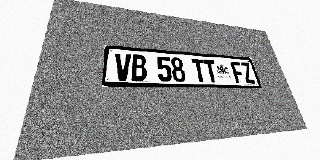5: (157, 56, 173, 82)
8: (170, 57, 186, 82)
B: (131, 54, 147, 81)
F: (230, 61, 246, 83)
T: (203, 59, 219, 83), (191, 59, 207, 82)
V: (114, 53, 131, 81)
Z: (240, 62, 256, 83)
